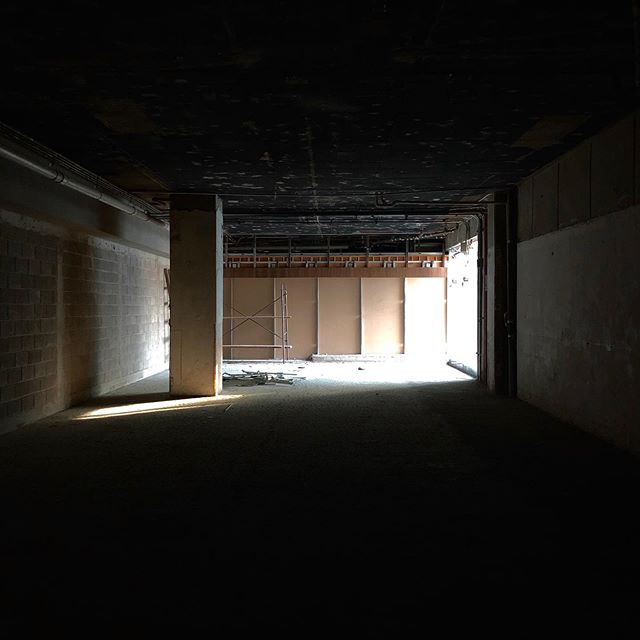collumn: (162, 194, 235, 393)
